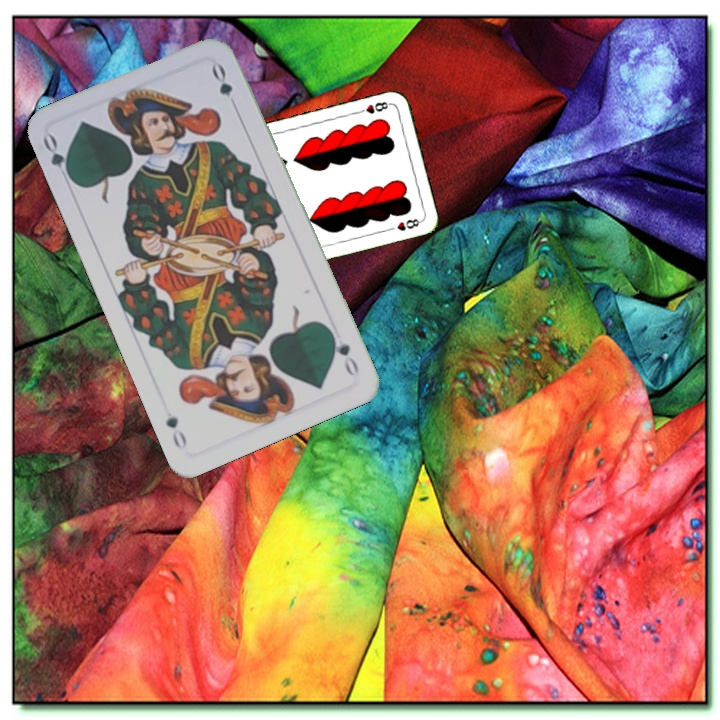GO: (38, 130, 77, 185), (325, 326, 362, 380)
H8: (353, 98, 393, 116)
